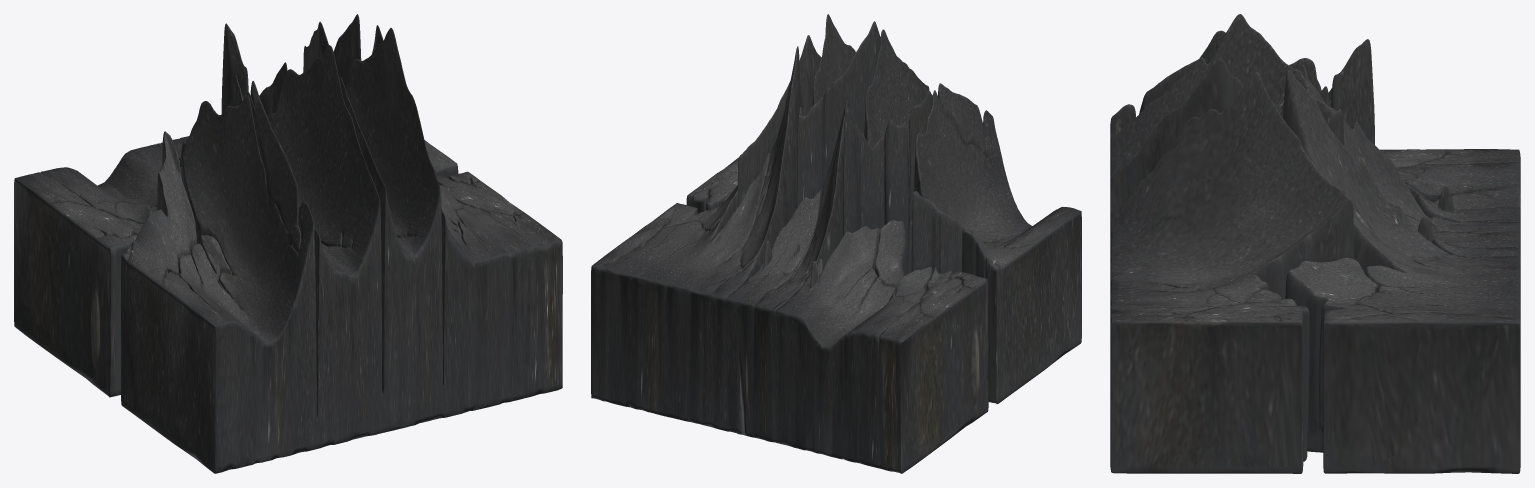
Rendered from fractured-asphalt.glb.
3 views of the same model, side by side, from view 1: azimuth 30°, elevation 25°; view 2: azimuth 150°, elevation 25°; view 3: azimuth 270°, elevation 25° (orthographic). The views are drawn at different scales.
Visible parts, largest first — view 1: fractured-asphalt; view 2: fractured-asphalt; view 3: fractured-asphalt.
Boxes of the visible parts, left/top/right/bottom form: fractured-asphalt: left=14, top=14, right=562, bottom=473; fractured-asphalt: left=591, top=14, right=1081, bottom=473; fractured-asphalt: left=1110, top=14, right=1520, bottom=473.
Bounding box in the file's own units: 1 × 1 × 1.
Materials: 1 (1 with a texture image).
